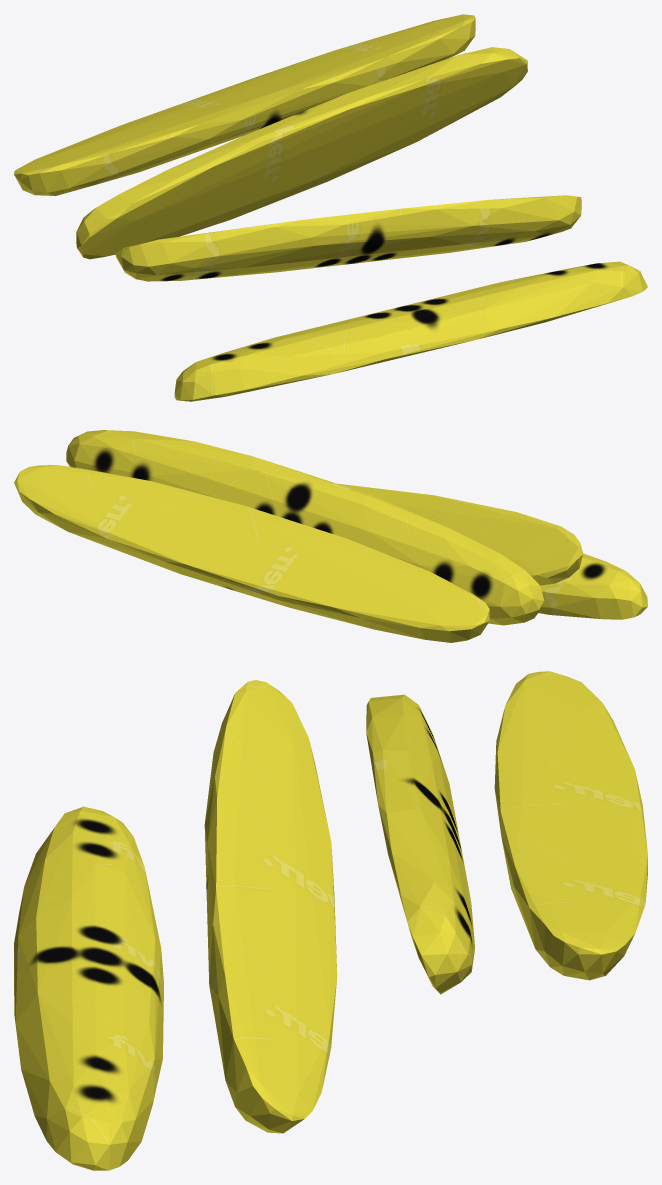
File: yut-physics-combined.glb
3 views of the same model, one above another, from view 1: azimuth 30°, elevation 25°; view 2: azimuth 150°, elevation 25°; view 3: azimuth 270°, elevation 25° (orthographic). The views are drawn at different scales.
Visible parts, largest first — view 1: Cube.011, Cube.009, Cube.012, Cube.010; view 2: Cube.012, Cube.011, Cube.010, Cube.009; view 3: Cube.010, Cube.009, Cube.012, Cube.011.
Part boxes in pixels (left/top/right/bottom): Cube.011: left=76, top=47, right=527, bottom=259; Cube.009: left=174, top=261, right=647, bottom=401; Cube.012: left=14, top=14, right=475, bottom=195; Cube.010: left=115, top=195, right=581, bottom=281; Cube.012: left=14, top=465, right=489, bottom=642; Cube.011: left=66, top=430, right=544, bottom=625; Cube.010: left=337, top=483, right=583, bottom=585; Cube.009: left=538, top=553, right=647, bottom=619; Cube.010: left=204, top=680, right=337, bottom=1133; Cube.009: left=14, top=806, right=163, bottom=1170; Cube.012: left=494, top=671, right=647, bottom=980; Cube.011: left=366, top=694, right=474, bottom=994.
Bounding box in the file's own units: 12.57 × 4.46 × 10.02.
4 materials, 4 textured.
